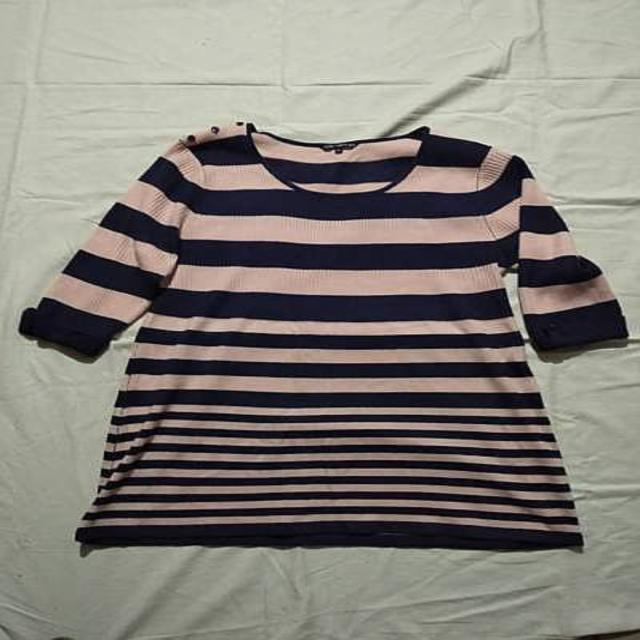T_SHIRT: (14, 115, 636, 562)
